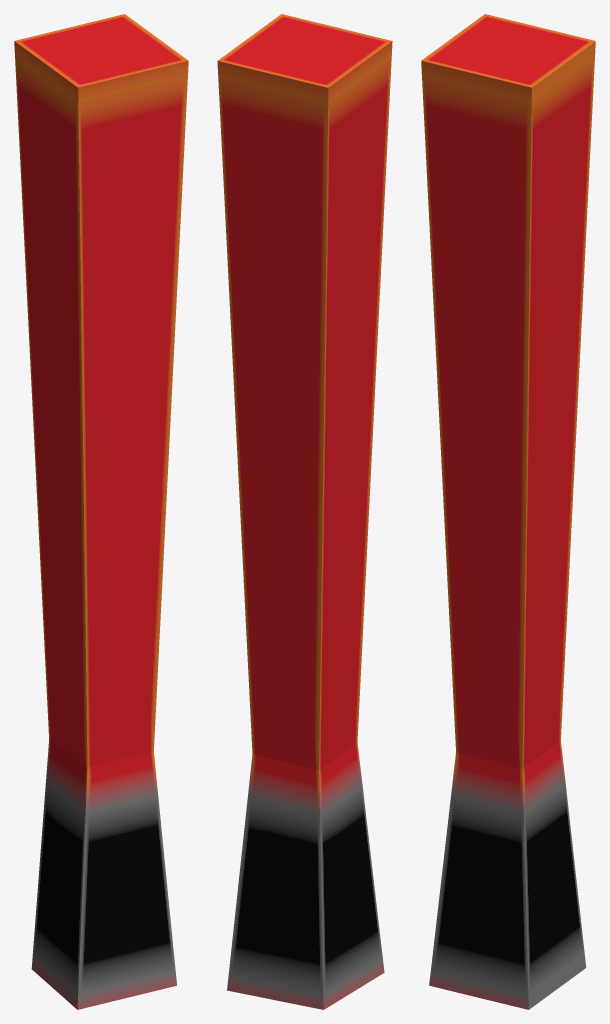
File: weapon_placeholder.glb
The picture shows the model from 3 angles, left to right: view 1: azimuth 30°, elevation 25°; view 2: azimuth 150°, elevation 25°; view 3: azimuth 330°, elevation 25°; orthographic projection.
Parts seen in each view (by area): view 1: Cube; view 2: Cube; view 3: Cube.
Part boxes in pixels (x1,y1,x2,y2): Cube: (14,14,188,1009); Cube: (217,14,392,1009); Cube: (421,14,595,1009).
Size of the model in its own units: 0.5 by 4 by 0.5.
Materials: 1 (1 with a texture image).
